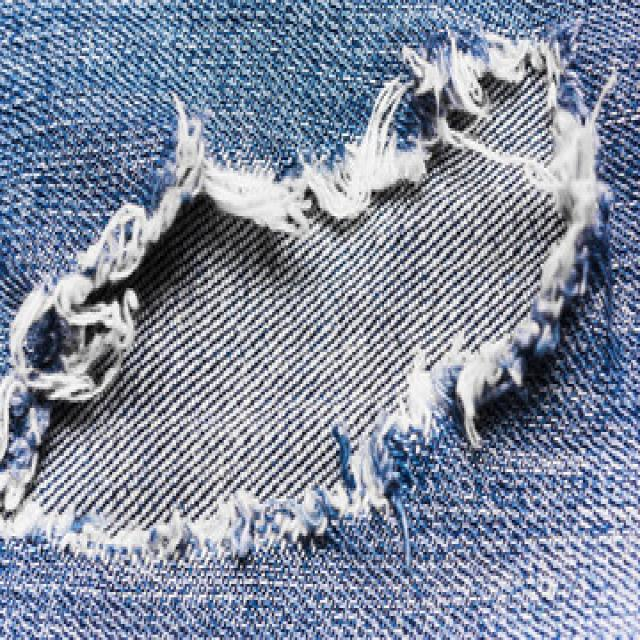Hole: (0, 31, 616, 570)
